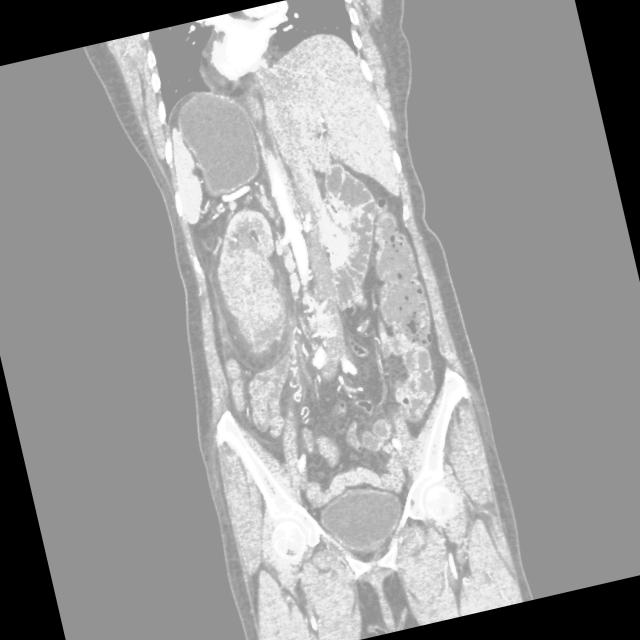TUMOR: (89, 133, 559, 504)
